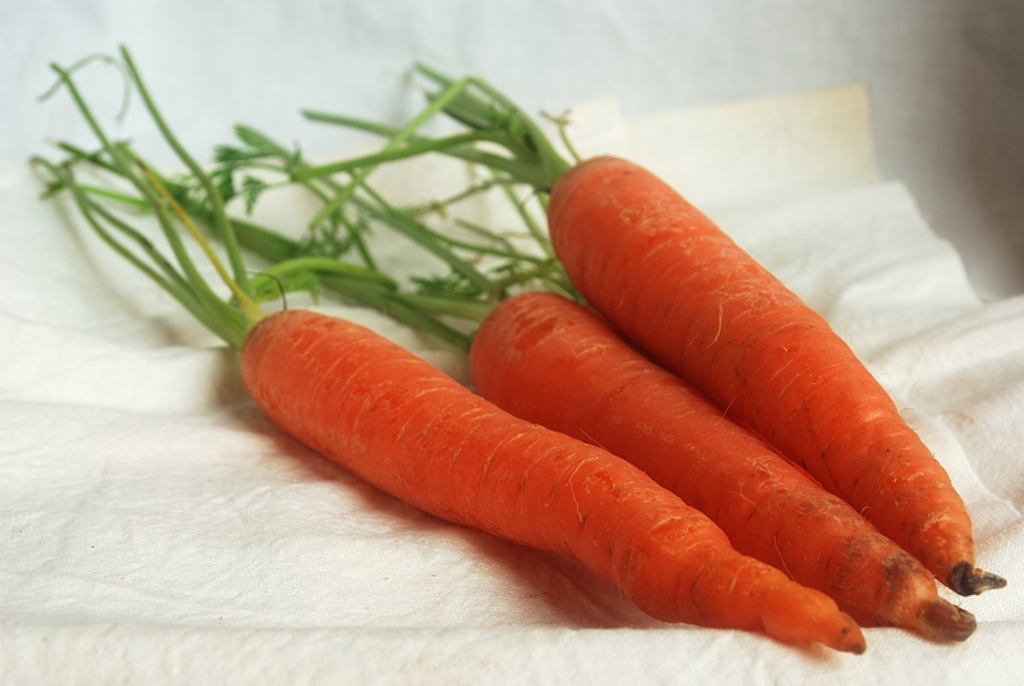Carrot: (26, 41, 869, 657), (167, 123, 978, 643), (301, 58, 1008, 598)
